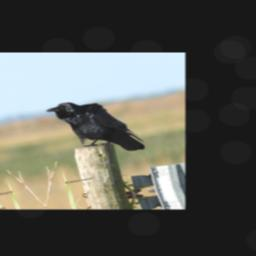Crow: (44, 91, 148, 164)
